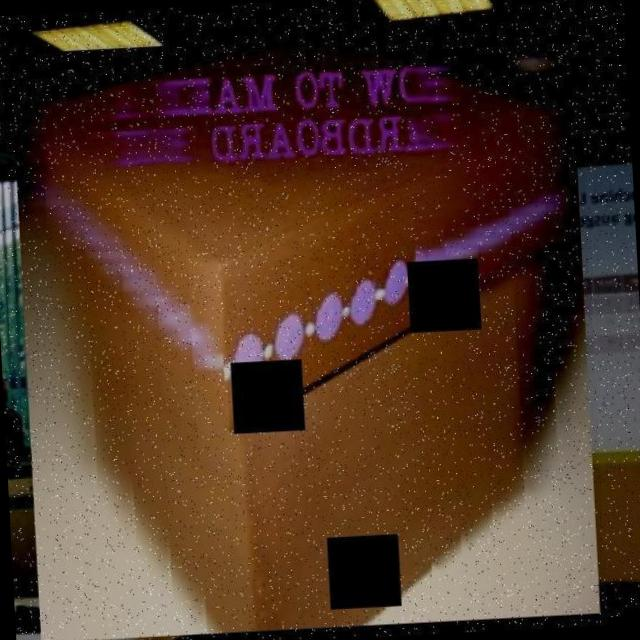box: (1, 17, 608, 640)
